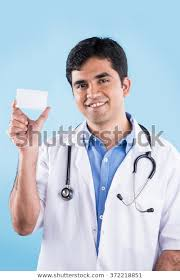Indian_Male: (63, 40, 135, 126)
